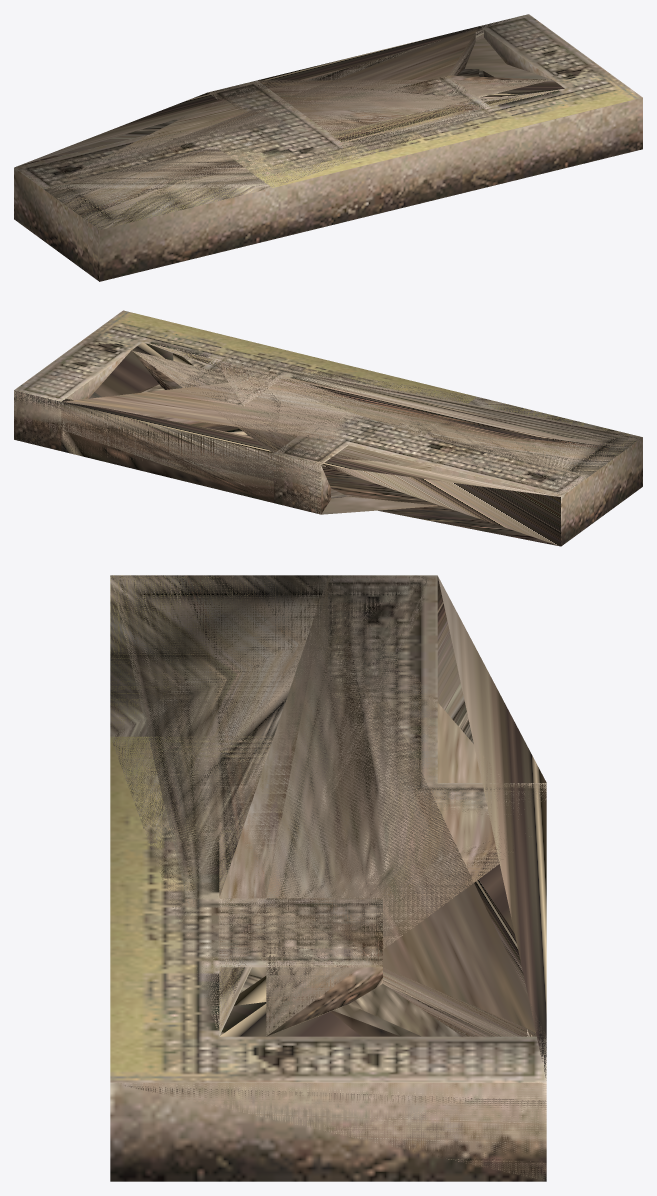
Rendered from stbuho63.dae.
The picture shows the model from 3 angles, top to bottom: view 1: azimuth 30°, elevation 25°; view 2: azimuth 150°, elevation 25°; view 3: azimuth 270°, elevation 25°; orthographic projection. The views are drawn at different scales.
Parts seen in each view (by area): view 1: base, rail1, rail2, tower; view 2: rail1, base, rail2, tower; view 3: rail1, base, rail2, tower.
Boxes of the visible parts, x1,y1,x2,y2 form: base: [14, 14, 642, 281]; rail1: [15, 26, 564, 229]; rail2: [43, 29, 560, 229]; tower: [15, 16, 518, 167]; rail1: [61, 342, 642, 546]; base: [14, 310, 642, 546]; rail2: [16, 342, 641, 546]; tower: [14, 391, 559, 514]; rail1: [110, 575, 546, 1180]; base: [110, 575, 546, 1181]; rail2: [110, 575, 536, 1036]; tower: [437, 576, 546, 1077].
Size of the model in its own units: 22 by 8 by 2.
1 material, 1 textured.
